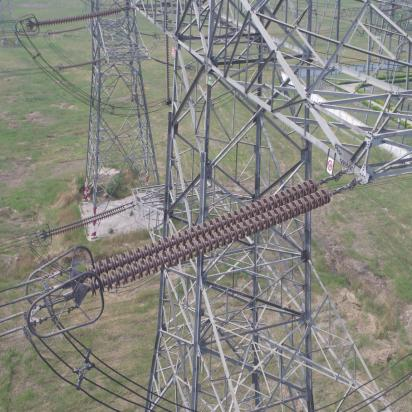insulator: (80, 177, 343, 302), (47, 204, 130, 239), (37, 8, 123, 27)
